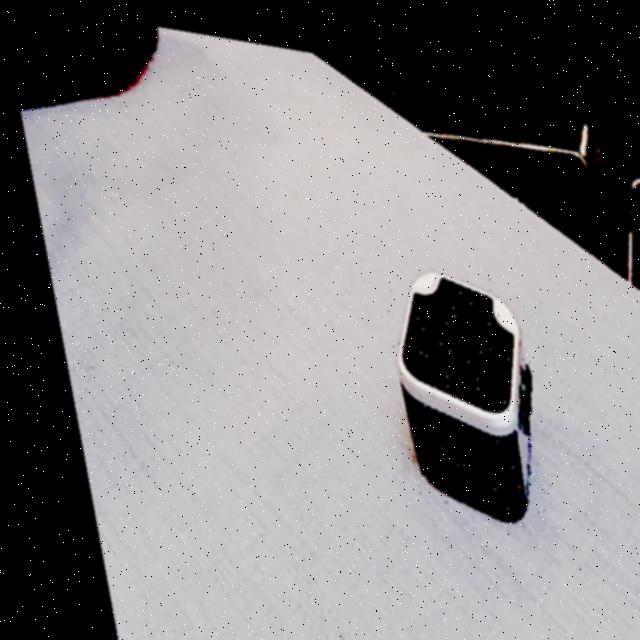adapter: (365, 245, 544, 513)
